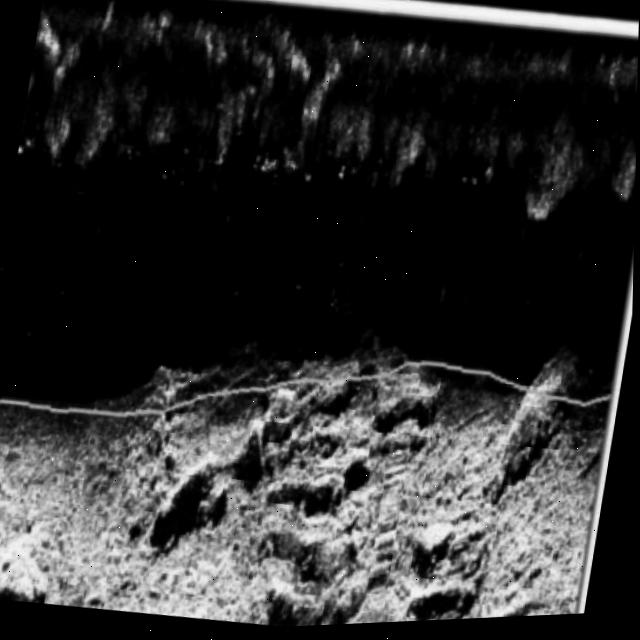bedrock group: (110, 297, 589, 636)
